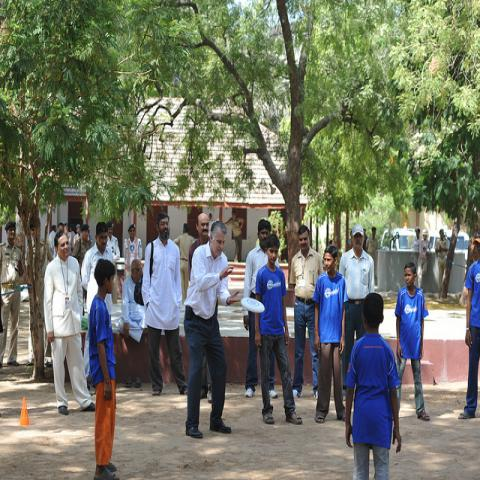car: (429, 230, 470, 273)
truck: (391, 222, 416, 251)
